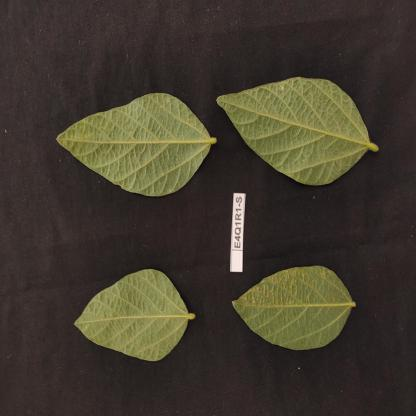label: (219, 186, 251, 286)
leaflets: (218, 70, 379, 190), (52, 84, 216, 197), (230, 268, 365, 368), (66, 266, 198, 368)
